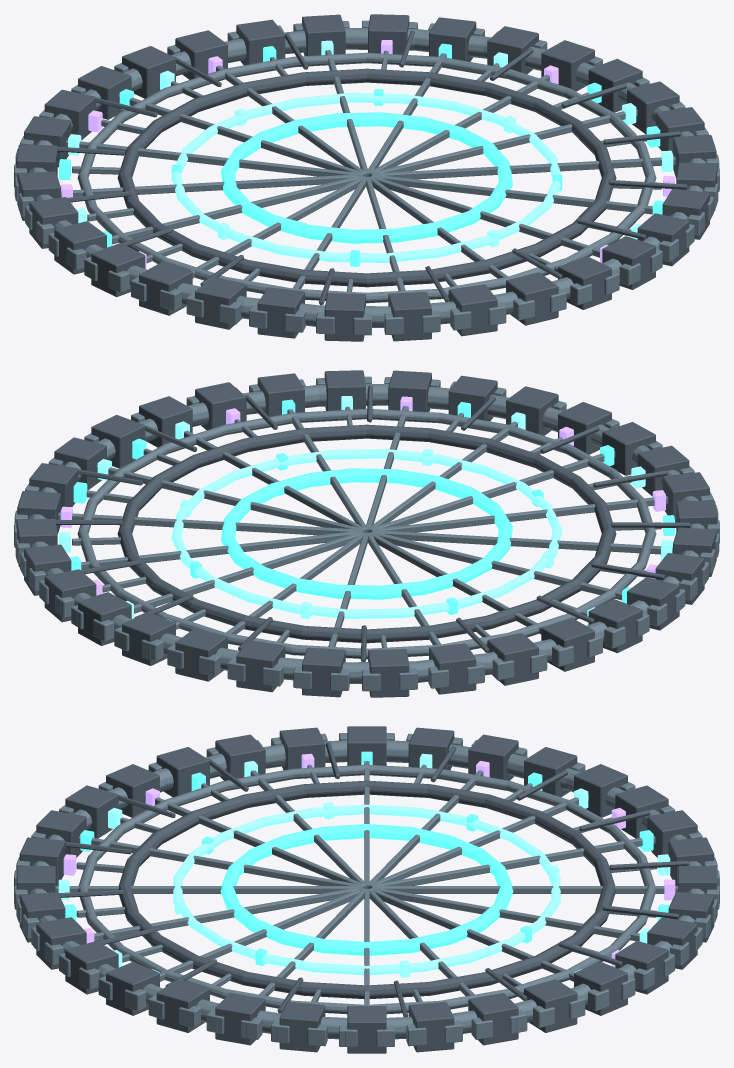
The model's file is wormhole_honeycomb.glb.
3 renders of one model, top to bottom at view 1: azimuth 30°, elevation 25°; view 2: azimuth 150°, elevation 25°; view 3: azimuth 270°, elevation 25°, orthographic.
Parts seen in each view (by area): view 1: WormholeHoneycomb; view 2: WormholeHoneycomb; view 3: WormholeHoneycomb.
Boxes of the visible parts, <box> form: WormholeHoneycomb: <box>14,14,719,341</box>; WormholeHoneycomb: <box>14,370,719,697</box>; WormholeHoneycomb: <box>14,726,719,1053</box>.
Bounding box in the file's own units: 7.58 × 0.38 × 7.58.
